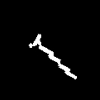half_double_crochet: (29, 34, 76, 78)
